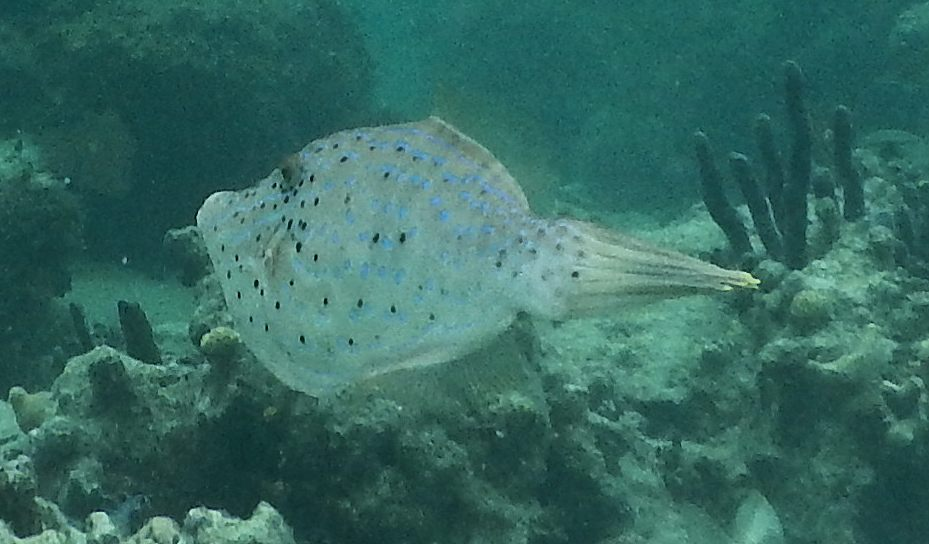Aluterus_scriptus: (189, 109, 760, 404)
